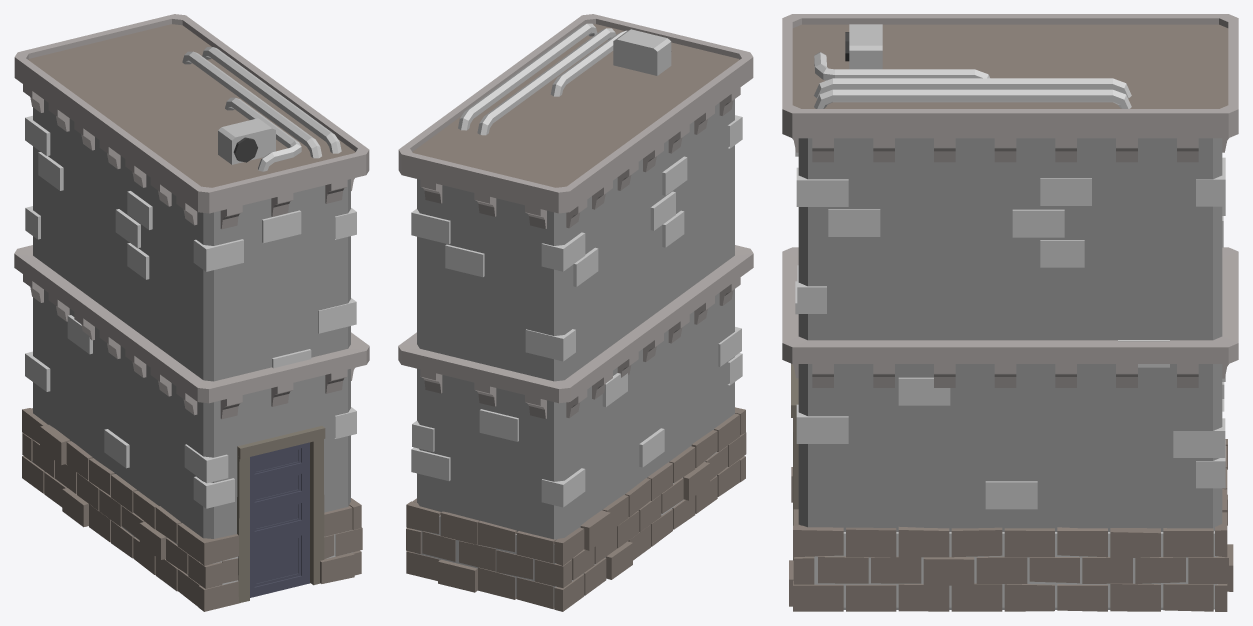
File: 2story-slim.glb
The picture shows the model from 3 angles, left to right: view 1: azimuth 30°, elevation 25°; view 2: azimuth 150°, elevation 25°; view 3: azimuth 270°, elevation 25°; orthographic projection. The views are drawn at different scales.
Visible parts, largest first — view 1: 2Story_Slim; view 2: 2Story_Slim; view 3: 2Story_Slim.
Boxes of the visible parts, <box> form: 2Story_Slim: <box>14,14,369,611</box>; 2Story_Slim: <box>398,14,753,611</box>; 2Story_Slim: <box>782,14,1238,611</box>.
Bounding box in the file's own units: 4.02 × 9.93 × 7.76.
1 material, 1 textured.
